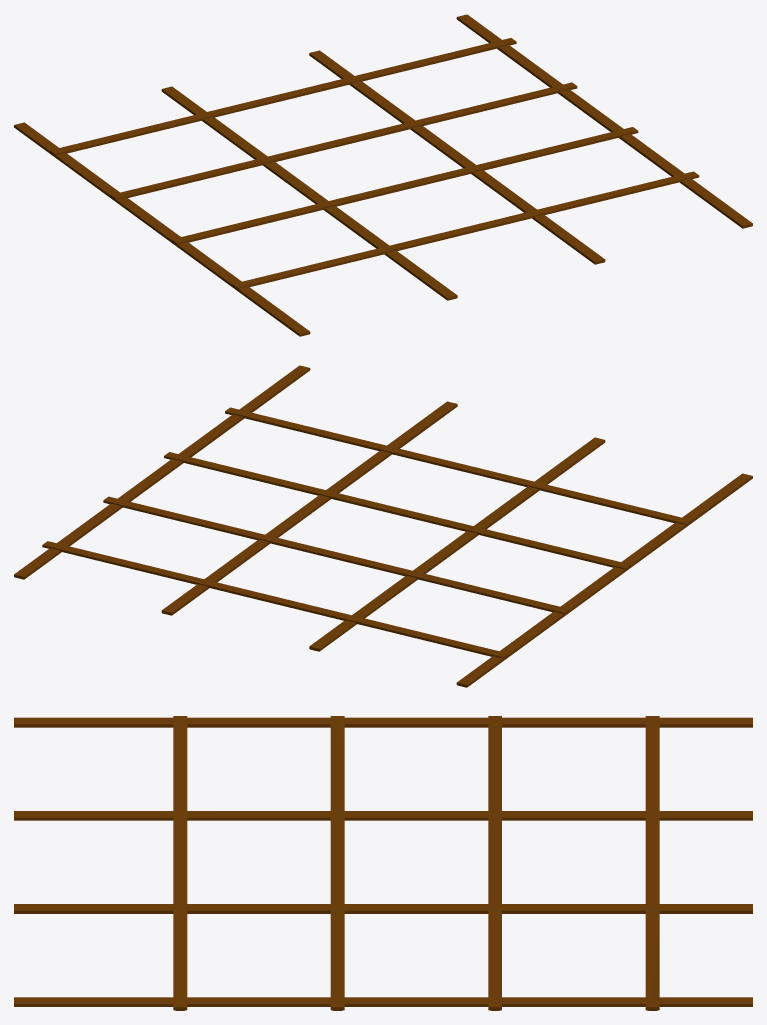
The model's file is wood_planks.fbx.
The picture shows the model from 3 angles, top to bottom: view 1: azimuth 30°, elevation 25°; view 2: azimuth 150°, elevation 25°; view 3: azimuth 270°, elevation 25°; orthographic projection. The views are drawn at different scales.
Visible parts, largest first — view 1: Cube; view 2: Cube; view 3: Cube.
Part boxes in pixels (x1,y1,x2,y2): Cube: [14, 14, 752, 336]; Cube: [14, 365, 752, 687]; Cube: [14, 716, 752, 1010].
Size of the model in its own units: 2109 by 17.16 by 2262.
